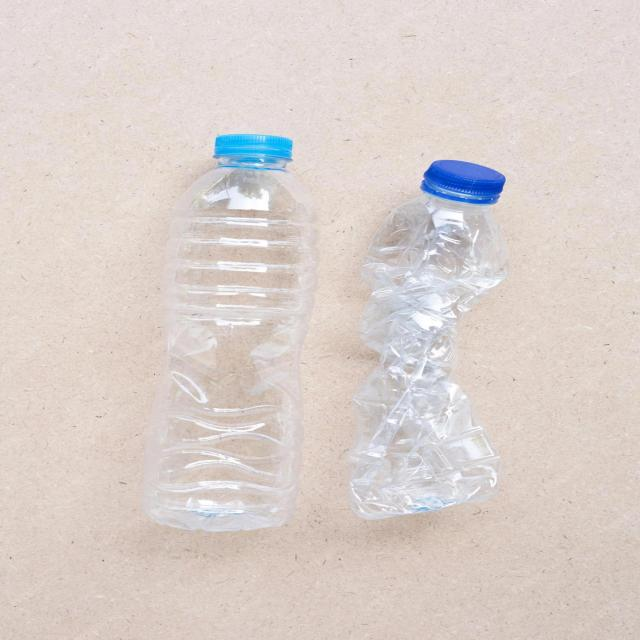plastic bottle: (145, 159, 315, 534), (342, 196, 509, 522)
plastic bottle cap: (421, 159, 506, 199), (216, 132, 294, 160)
